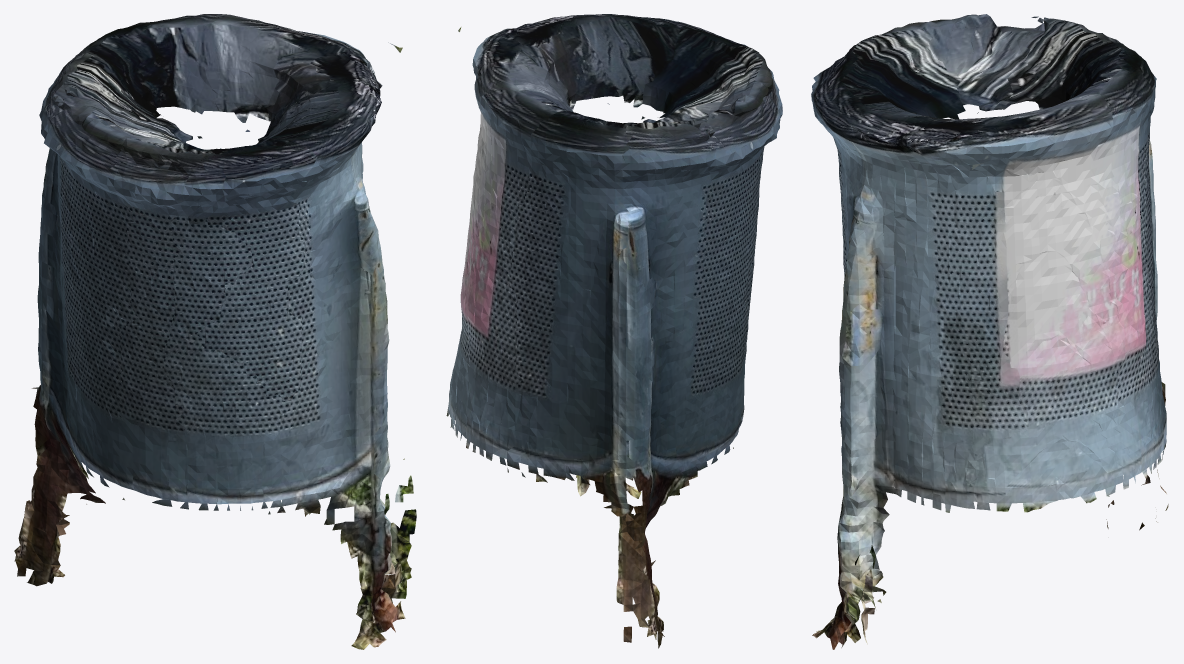
File: trash.gltf
3 renders of one model, left to right at view 1: azimuth 30°, elevation 25°; view 2: azimuth 150°, elevation 25°; view 3: azimuth 270°, elevation 25°, orthographic. The views are drawn at different scales.
Bounding box in the file's own units: 0.5 × 0.772 × 0.466.
1 material, 1 textured.
